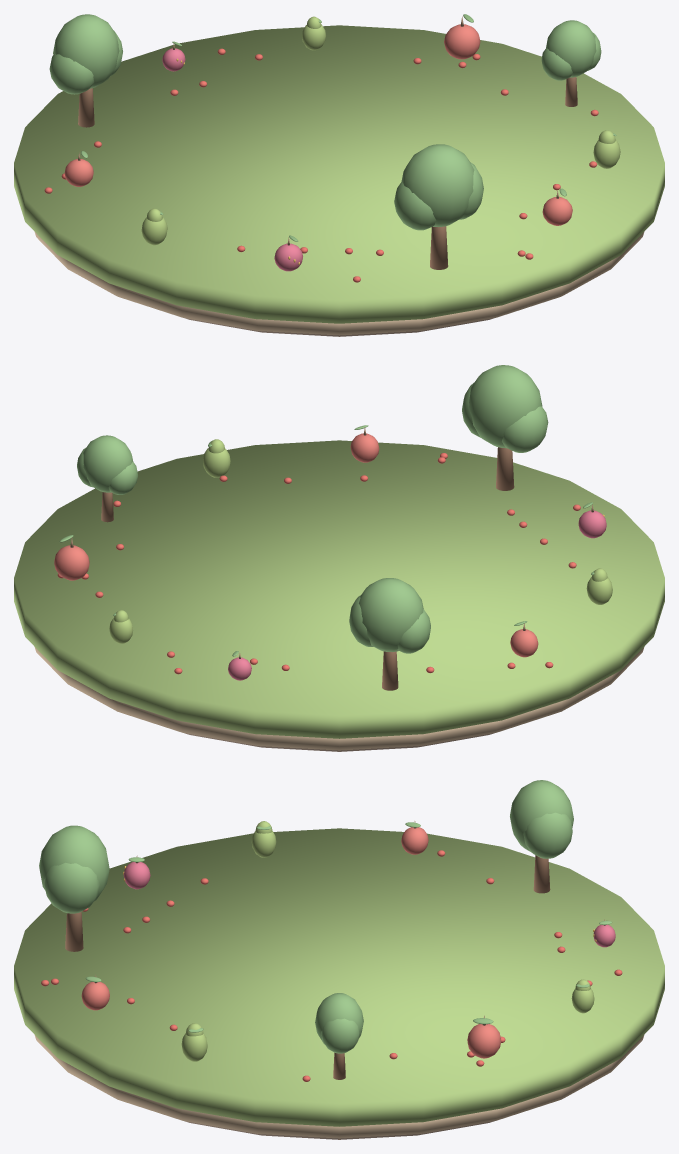
The model's file is world.glb.
The picture shows the model from 3 angles, top to bottom: view 1: azimuth 30°, elevation 25°; view 2: azimuth 150°, elevation 25°; view 3: azimuth 270°, elevation 25°; orthographic projection.
Parts seen in each view (by area): view 1: Cone, Cone.001, tree.003, tree.002, tree.001, apple.001, pear.003, apple.003, pear.002, apple.002, strawberry.002, pear.001 (+2 smaller); view 2: Cone, Cone.001, tree.003, tree.002, tree.001, apple.001, pear.003, pear.002, apple.003, strawberry.002, apple.002, pear.001; view 3: Cone, Cone.001, tree.003, tree.002, tree.001, apple.001, pear.003, apple.003, pear.002, apple.002, strawberry.002, pear.001 (+1 smaller).
Boxes of the visible parts, x1,y1,x2,y2 form: Cone: [14, 25, 664, 323]; Cone.001: [34, 231, 644, 335]; tree.003: [394, 144, 483, 269]; tree.002: [49, 14, 122, 127]; tree.001: [541, 20, 601, 106]; apple.001: [444, 14, 480, 59]; pear.003: [593, 130, 620, 168]; apple.003: [542, 188, 572, 225]; pear.002: [141, 208, 167, 245]; apple.002: [64, 151, 93, 186]; strawberry.002: [274, 235, 302, 271]; pear.001: [302, 16, 325, 50]; Cone: [14, 440, 664, 738]; Cone.001: [34, 647, 644, 750]; tree.003: [462, 365, 548, 490]; tree.002: [349, 578, 430, 690]; tree.001: [77, 435, 137, 522]; apple.001: [54, 535, 89, 580]; pear.003: [203, 439, 230, 477]; pear.002: [586, 568, 612, 604]; apple.003: [350, 425, 379, 462]; strawberry.002: [578, 502, 606, 538]; apple.002: [510, 621, 538, 657]; pear.001: [109, 610, 133, 643]; Cone: [14, 828, 664, 1126]; Cone.001: [34, 1034, 644, 1138]; tree.003: [39, 825, 109, 951]; tree.002: [510, 780, 573, 893]; tree.001: [315, 993, 363, 1079]; apple.001: [467, 1015, 501, 1058]; pear.003: [181, 1023, 207, 1061]; apple.003: [81, 974, 109, 1010]; pear.002: [251, 821, 276, 857]; apple.002: [401, 821, 428, 854]; strawberry.002: [123, 855, 150, 889]; pear.001: [571, 979, 594, 1013].
Bounding box in the file's own units: 9.6 × 2.74 × 9.6.
